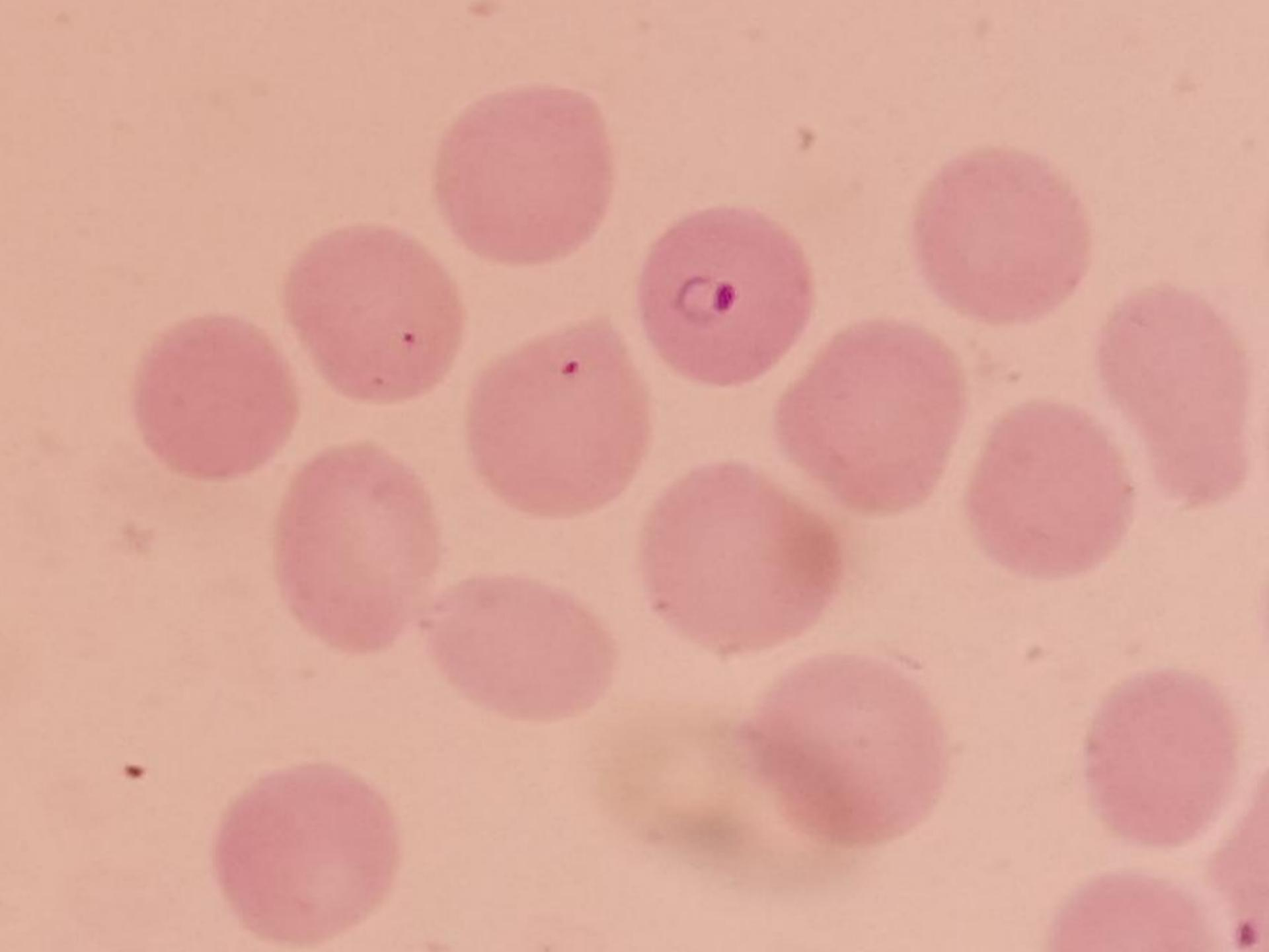Infected: (639, 197, 815, 386)
Uninfected: (756, 650, 953, 851), (634, 472, 843, 661), (778, 316, 962, 519), (269, 448, 441, 664), (471, 316, 648, 523), (207, 758, 395, 942), (1097, 280, 1244, 514), (275, 217, 461, 398), (912, 146, 1088, 331), (441, 82, 612, 270), (414, 571, 621, 720), (1080, 668, 1238, 859), (128, 311, 303, 480), (969, 397, 1129, 579)
